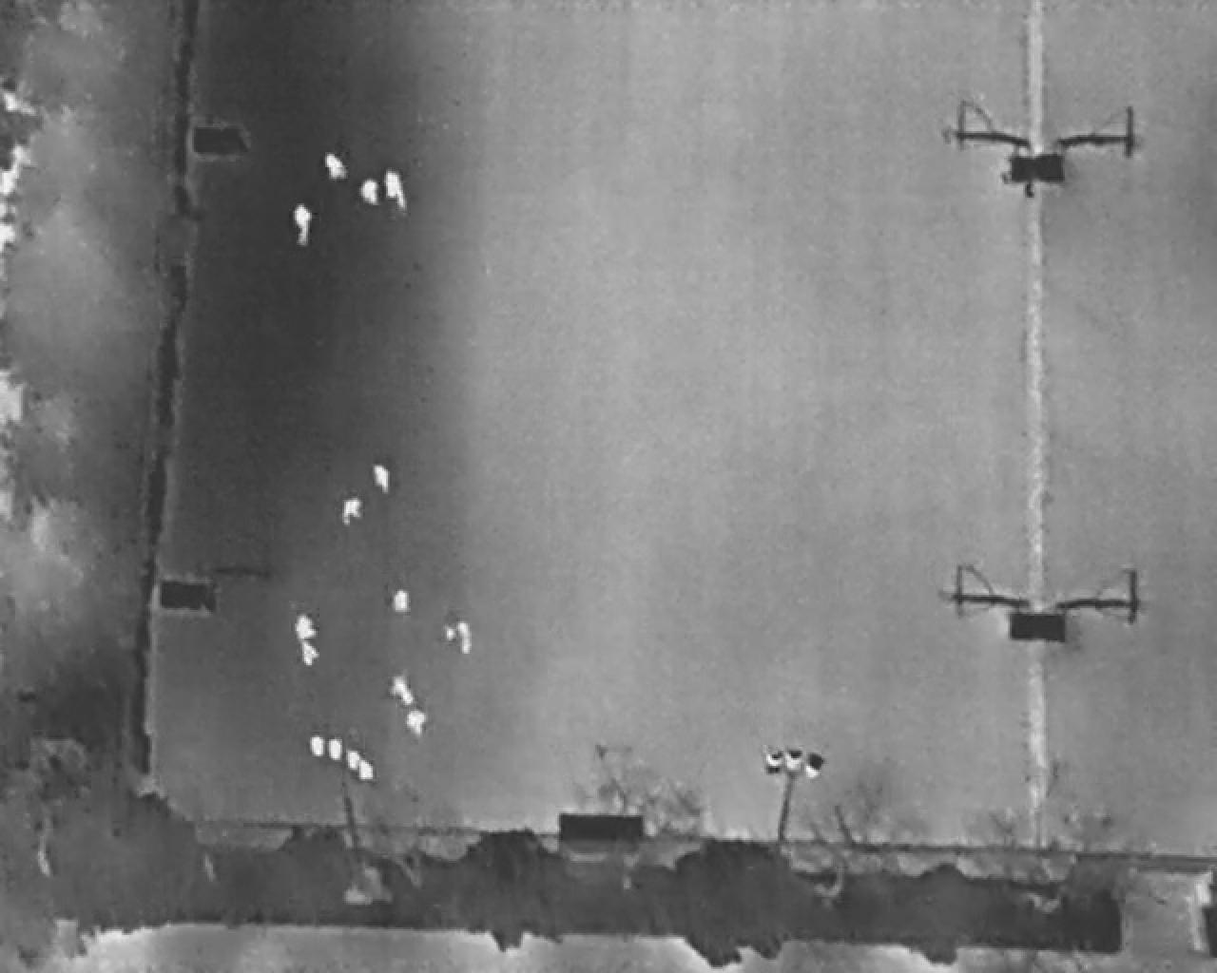person: (379, 166, 412, 216), (381, 668, 419, 710), (317, 145, 353, 187), (442, 619, 476, 662), (290, 204, 313, 250), (368, 463, 396, 495), (404, 706, 431, 738), (294, 613, 319, 643), (341, 497, 364, 525), (299, 643, 320, 670), (358, 180, 381, 204), (393, 586, 412, 615)
